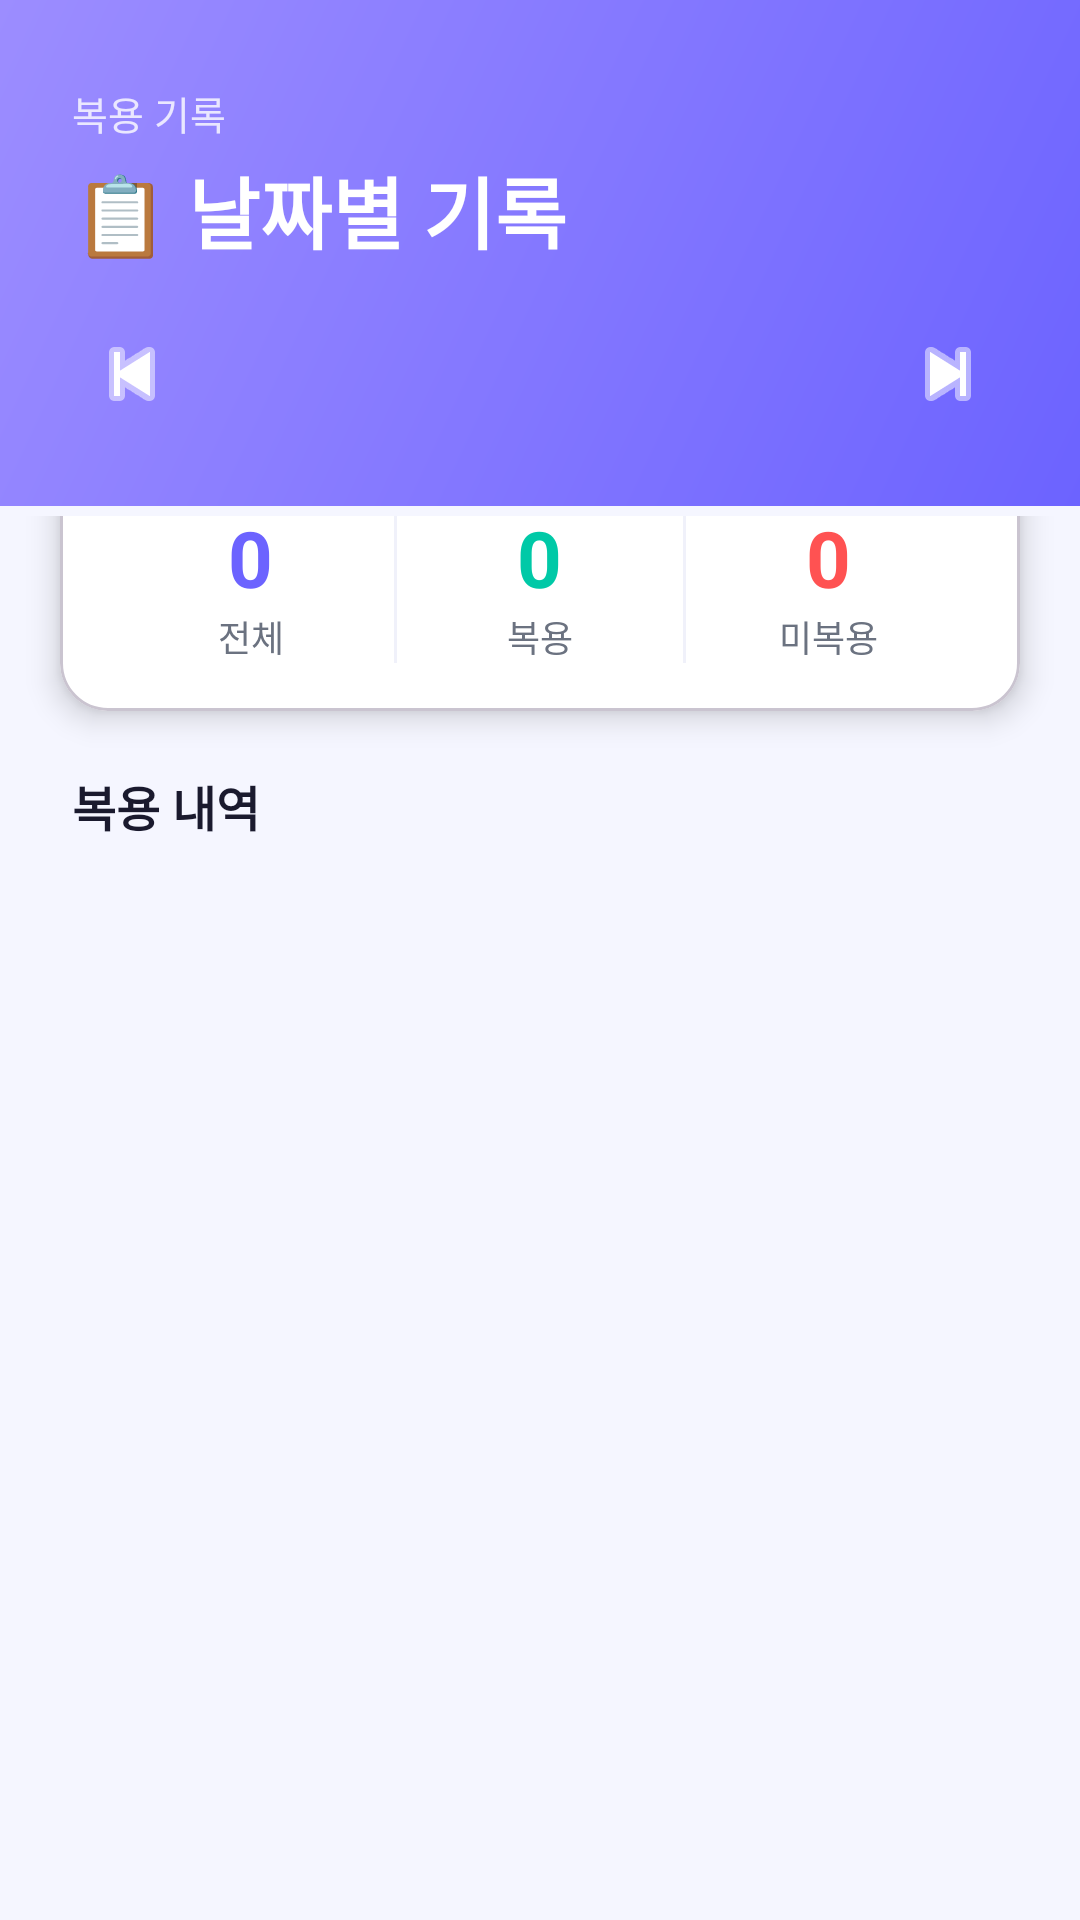

Icons on this 1080*1920 Android screen, each with the point to tap as (x,y):
next: (948,374)
previous: (132,374)
